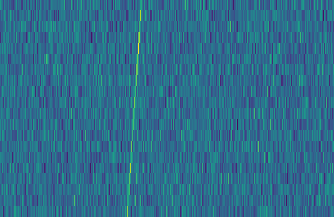signal: (122, 0, 146, 217)
